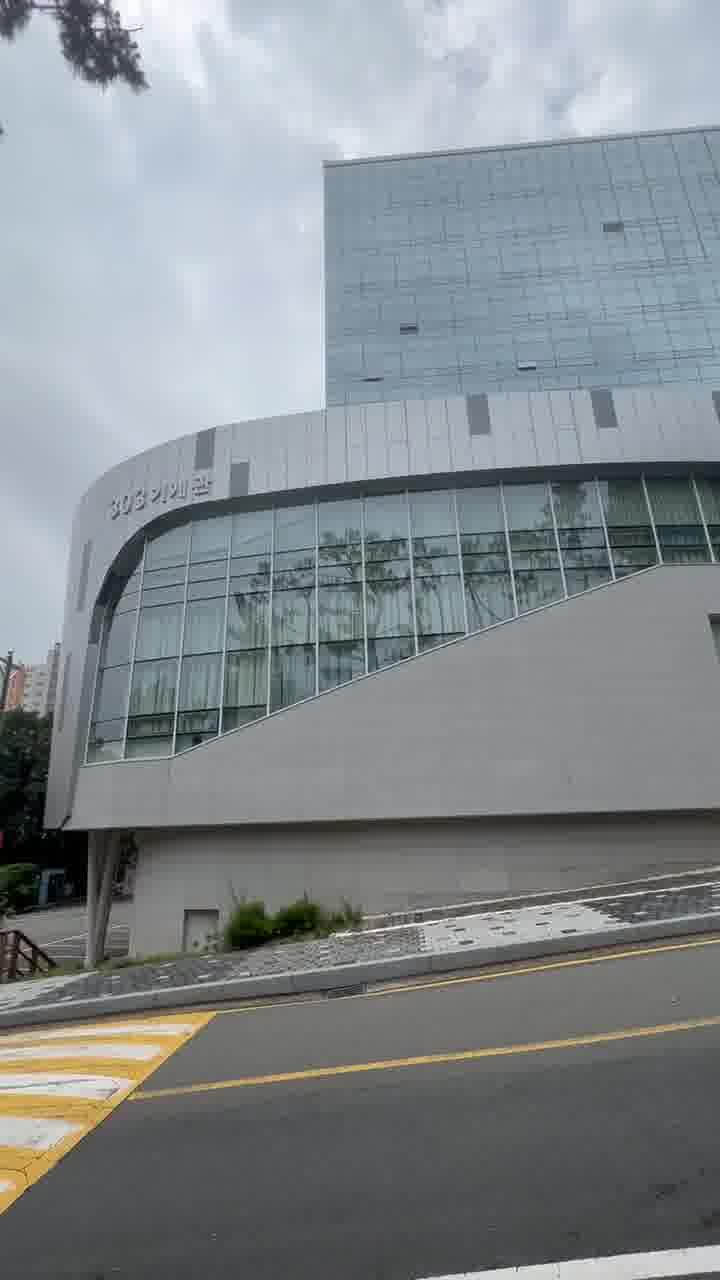building: (60, 108, 720, 810)
